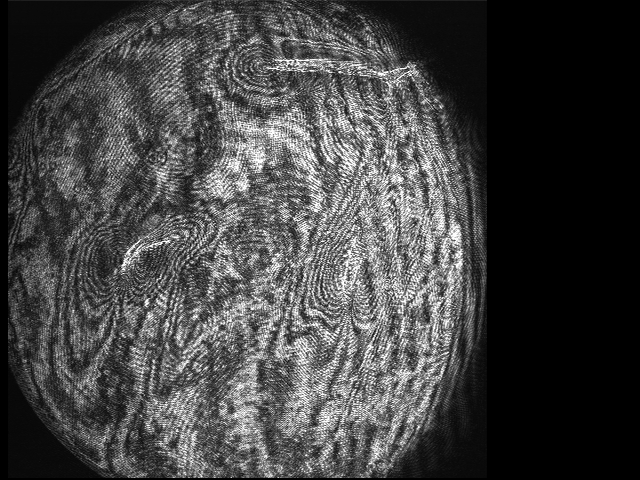plume: (77, 216, 199, 311)
